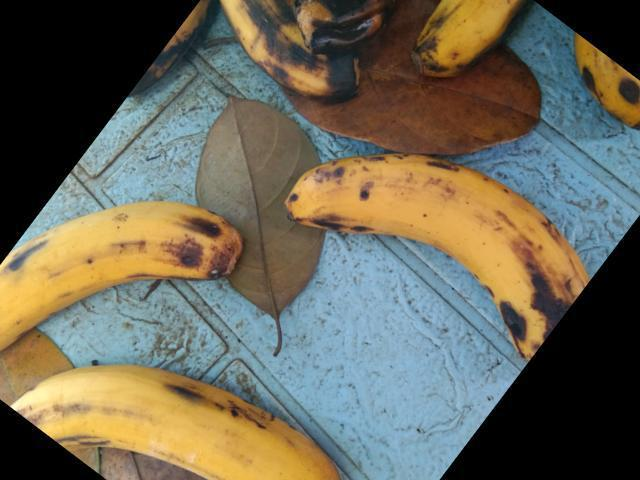overripe: (267, 126, 626, 362)
ripe: (0, 180, 243, 344), (16, 364, 348, 479)
rotten: (180, 0, 356, 106), (403, 0, 533, 84)
